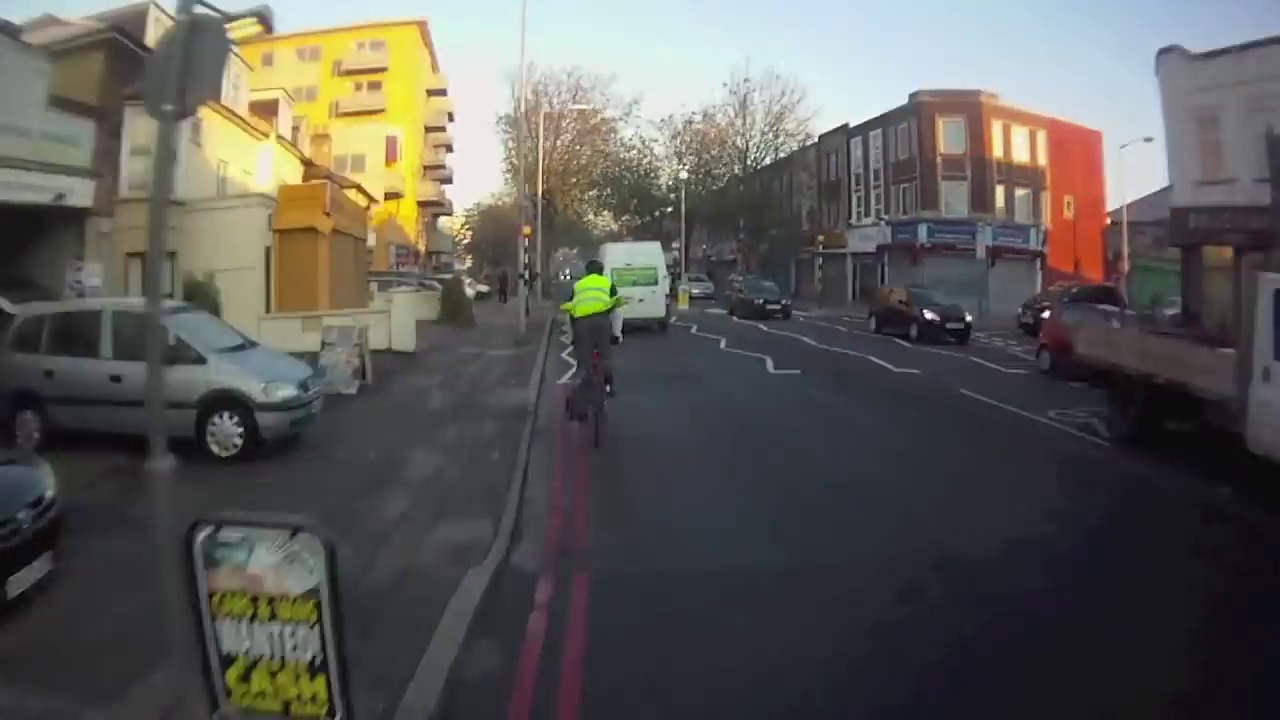cyclist_back: (555, 251, 625, 450)
